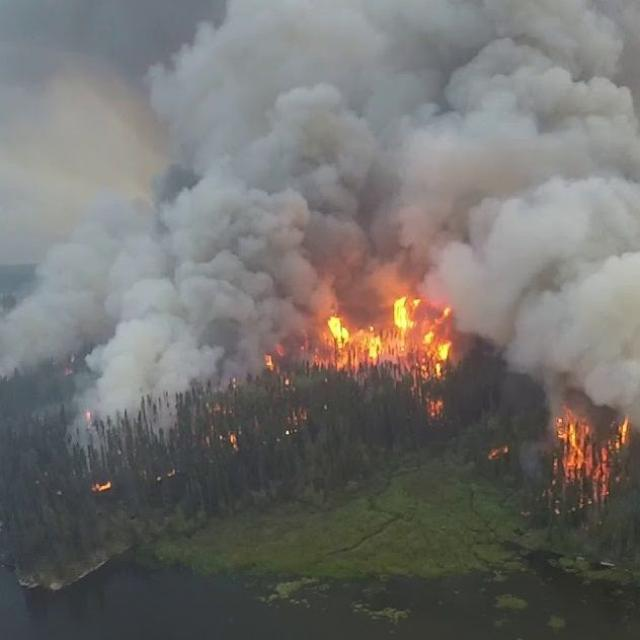Fire: (327, 292, 455, 380), (552, 416, 624, 468)
Smoke: (0, 0, 627, 389)
